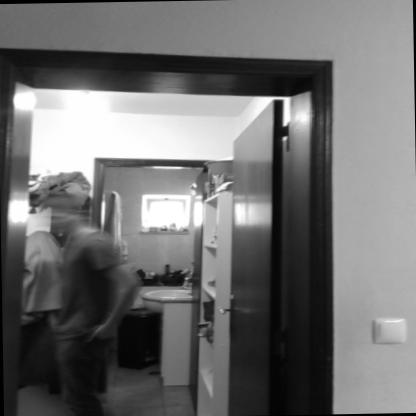open: (0, 32, 345, 416)
